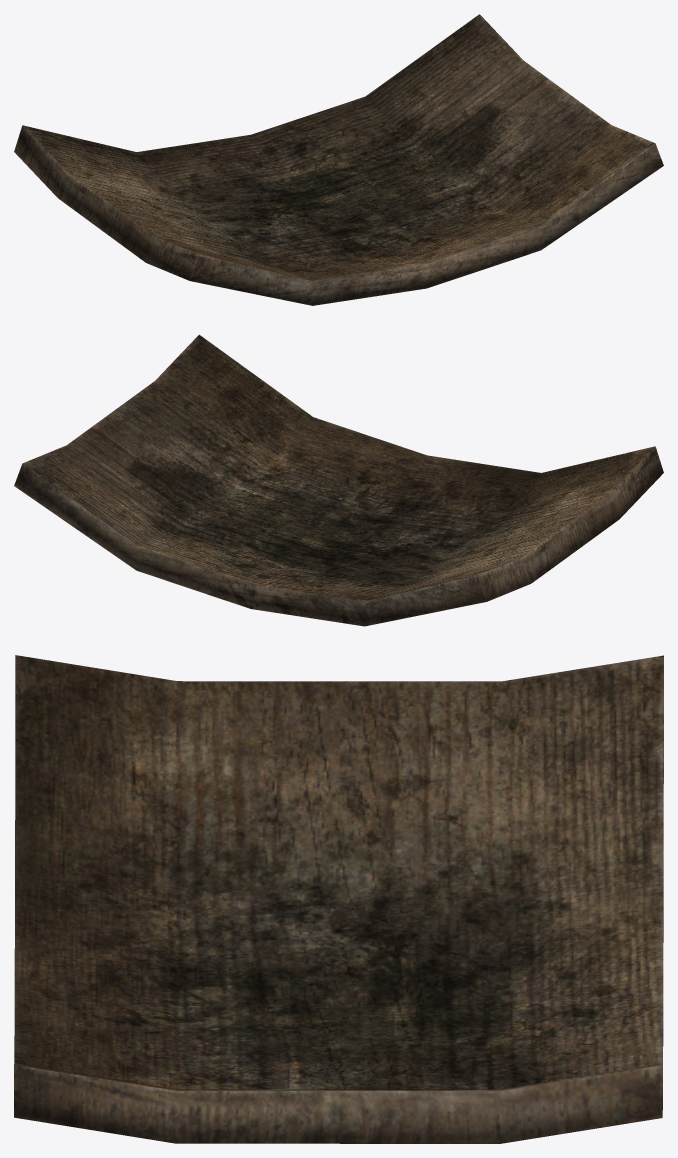
Rendered from bathRoom02.FBX.
3 renders of one model, top to bottom at view 1: azimuth 30°, elevation 25°; view 2: azimuth 150°, elevation 25°; view 3: azimuth 270°, elevation 25°, orthographic. The views are drawn at different scales.
Visible parts, largest first — view 1: SM_Bathroom02; view 2: SM_Bathroom02; view 3: SM_Bathroom02.
Boxes of the visible parts, x1=… form: SM_Bathroom02: x1=14, y1=14, x2=663, y2=305; SM_Bathroom02: x1=14, y1=334, x2=663, y2=626; SM_Bathroom02: x1=14, y1=655, x2=663, y2=1143.
Bounding box in the file's own units: 33.04 × 6.91 × 21.34.
1 material, 1 textured.
